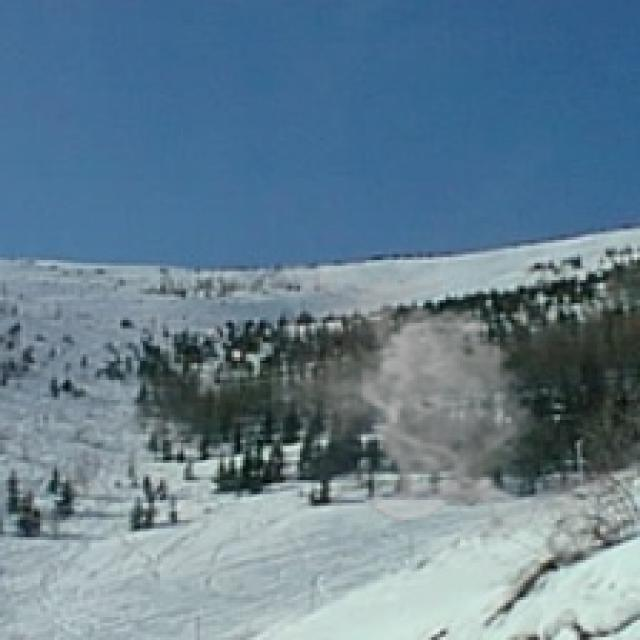smoke: (271, 260, 543, 529)
